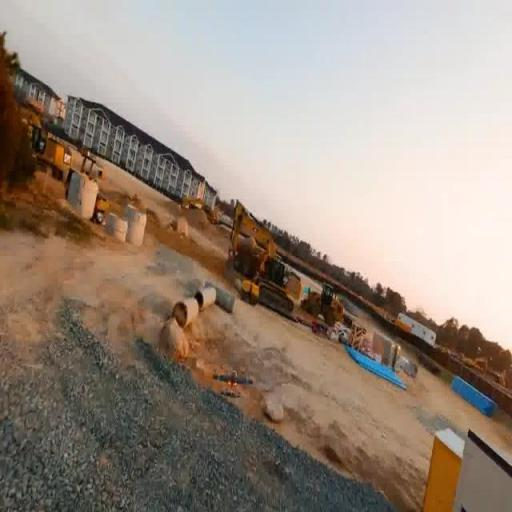uav: (210, 364, 254, 406)
